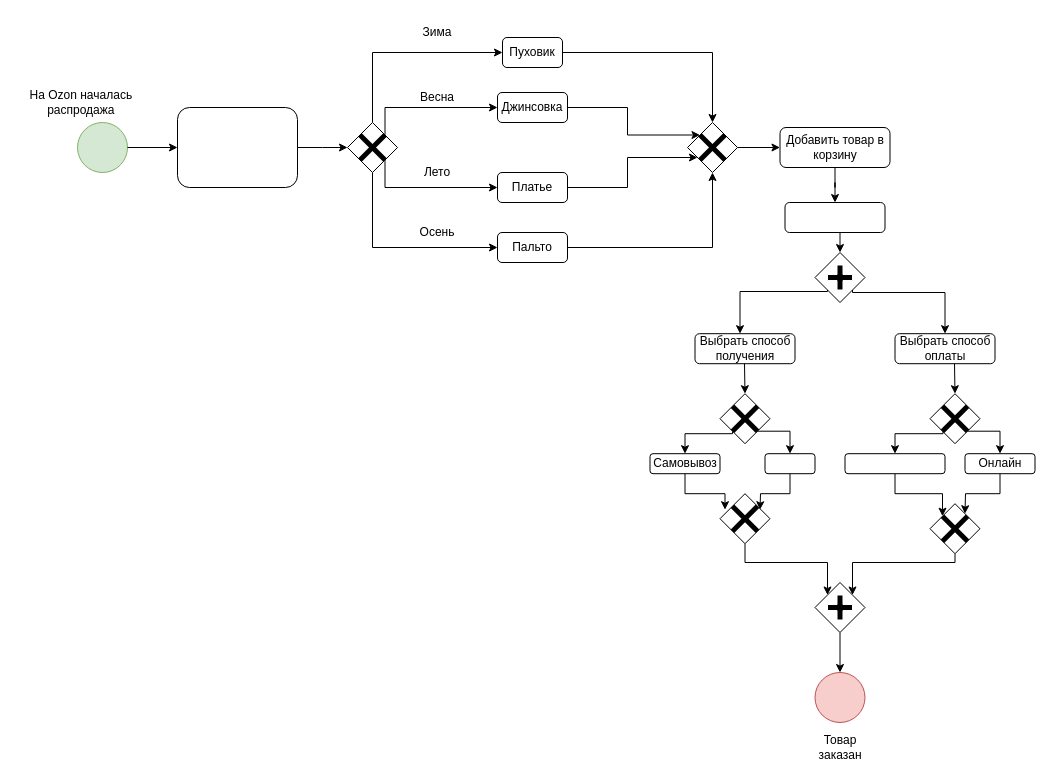
Image size: 1052x779. Some labels were removed from this diagram. Here are the shapes that lost their labels. From the top down, the box of each, then its label:
(176, 106, 298, 188): Выбрать вещи на текущий сезон
(784, 202, 885, 232): Оформить заказ
(764, 453, 815, 474): Курьер
(844, 453, 945, 474): При получении
